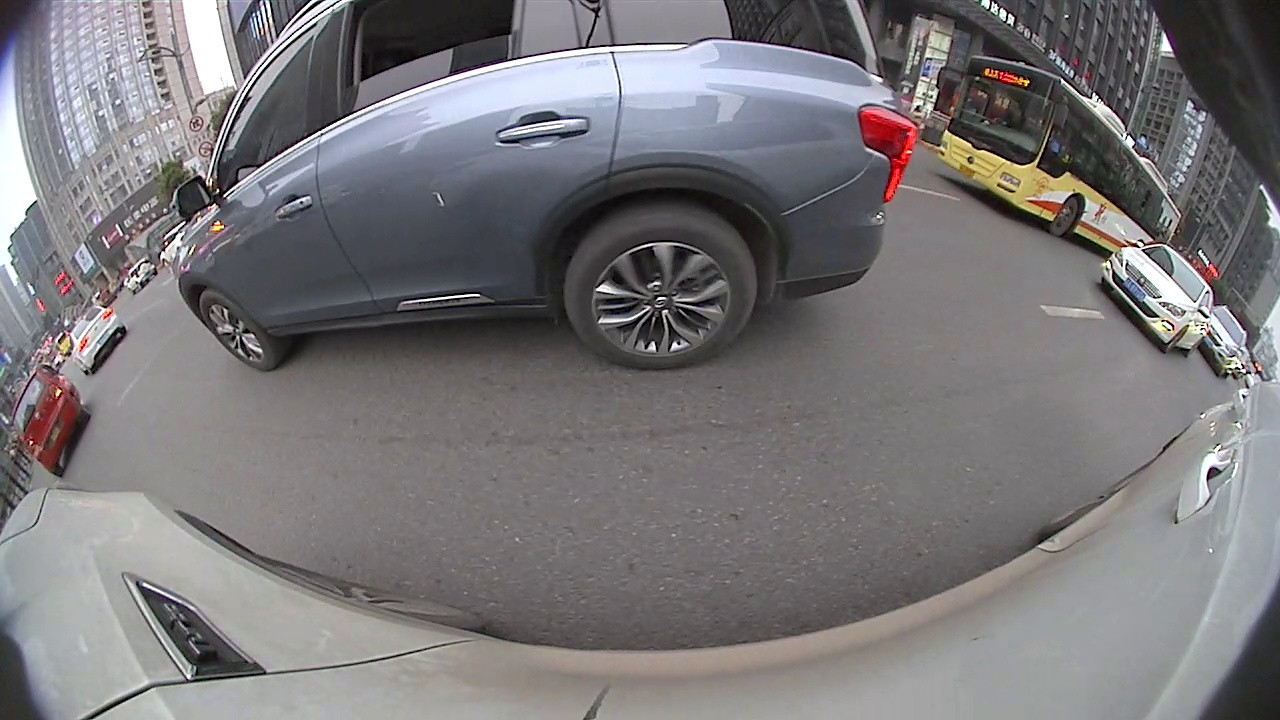bus: (934, 51, 1183, 255)
car: (163, 1, 920, 374), (1098, 239, 1217, 358), (68, 301, 128, 374), (1195, 302, 1250, 379)
front: (196, 290, 281, 374), (1051, 193, 1080, 238)
rear: (566, 214, 758, 371)
rider: (8, 360, 93, 479)
